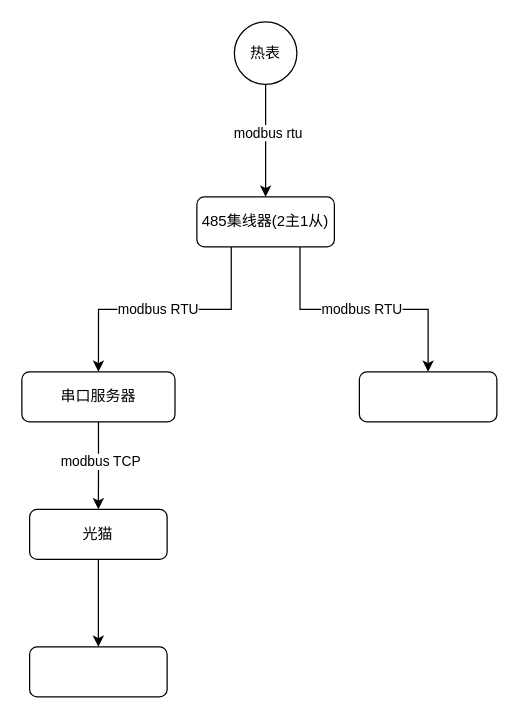
Image size: 519x719. Some labels were removed from this diagram. The shapes that lost their labels are listed below. From the top down, each one's centre as x and y in pixels, then its label:
point (427, 396): 触摸屏
point (97, 671): 上位机软件
